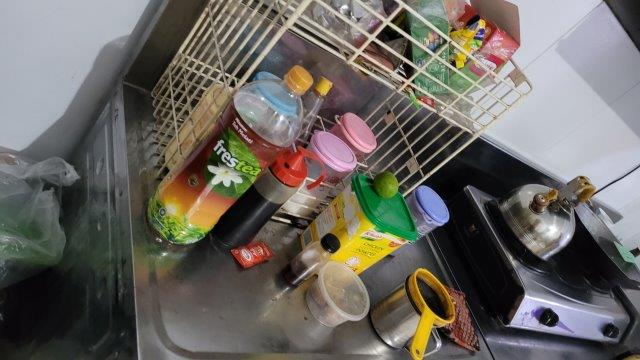botolplastik: (147, 65, 315, 253)
